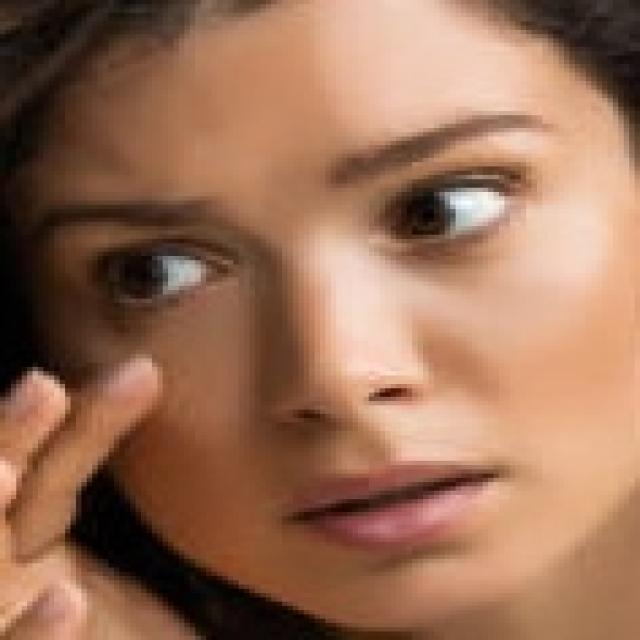Anxiety: (8, 0, 635, 627)
